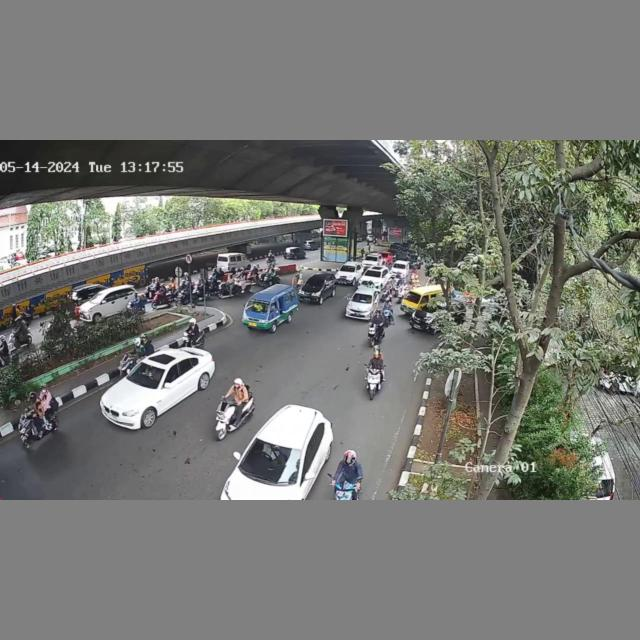windshield: (243, 442, 305, 484), (125, 360, 170, 391), (245, 298, 269, 315)
